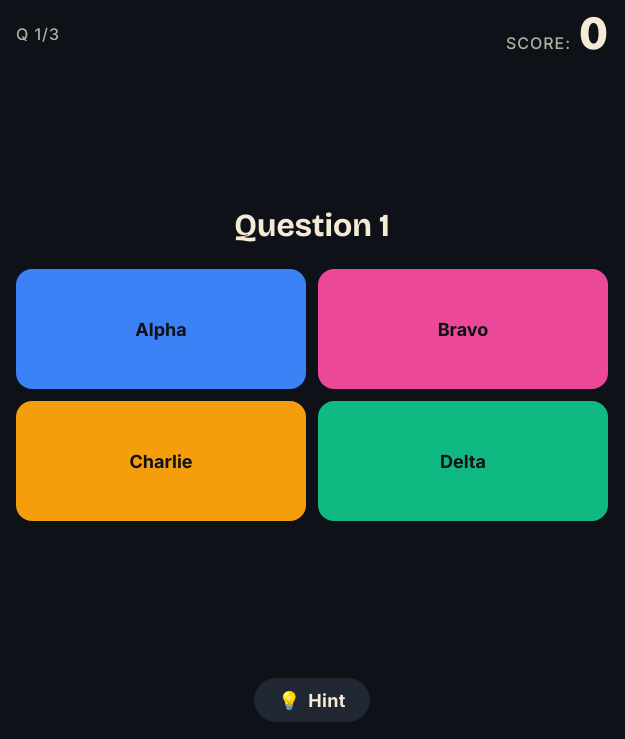
it: GameScreen › transition to feedback phase › renders the feedback overlay and hides the question + hint button after answer
What coordinates should you click on to do the following:
click the button "Alpha"
I would click on:
 (161, 329)
Its box is x1=16 y1=269 x2=306 y2=389.
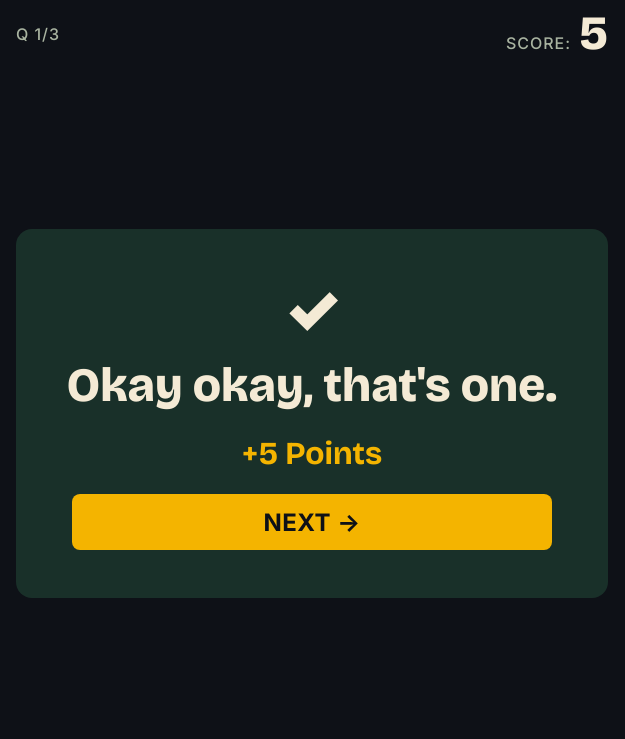
expect the message "✓ Okay okay, that's one. +5 Points NEXT →" is shown: met, box x1=16 y1=229 x2=608 y2=598
expect the heading "Question 1" is gone: met
expect the button "Hint" is gone: met
